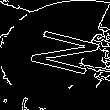N_E: (10, 27, 100, 83)
